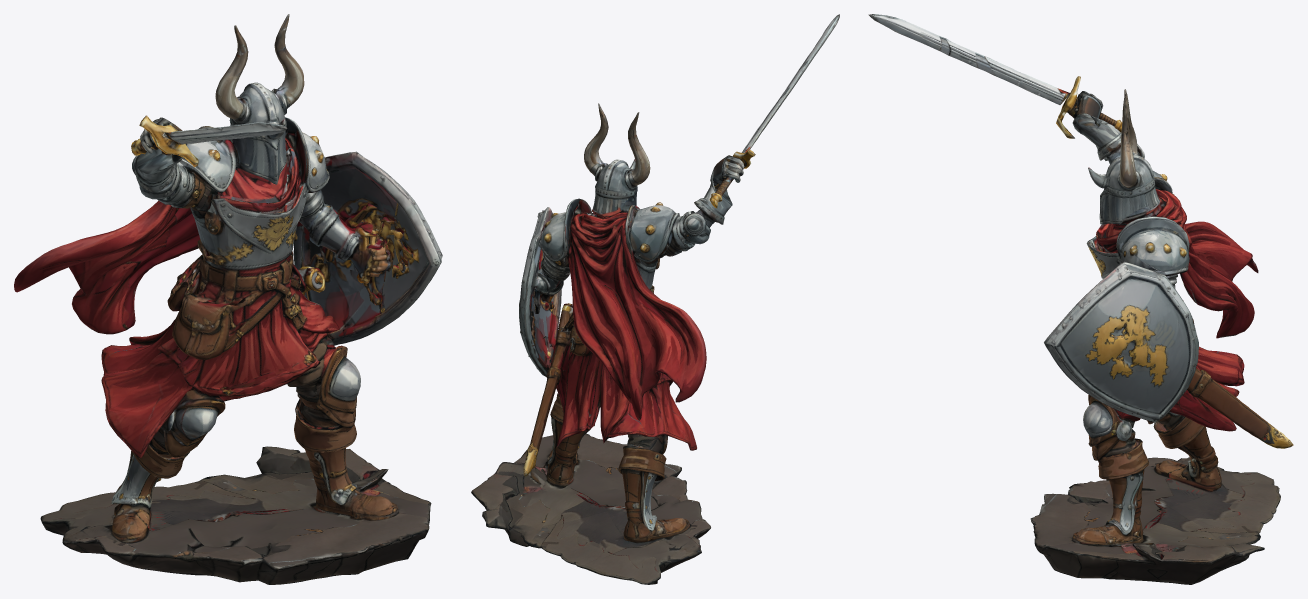
The model's file is Knight_BackView_SwordForward_4K.glb.
3 renders of one model, left to right at view 1: azimuth 30°, elevation 25°; view 2: azimuth 150°, elevation 25°; view 3: azimuth 270°, elevation 25°, orthographic. The views are drawn at different scales.
Parts seen in each view (by area): view 1: texture_mapping; view 2: texture_mapping; view 3: texture_mapping.
Boxes of the visible parts, bbox=[...] form: texture_mapping: bbox=[14, 14, 442, 584]; texture_mapping: bbox=[471, 14, 839, 584]; texture_mapping: bbox=[868, 14, 1293, 584].
Size of the model in its own units: 0.6172 by 1.07 by 0.8818.
Materials: 1 (1 with a texture image).
